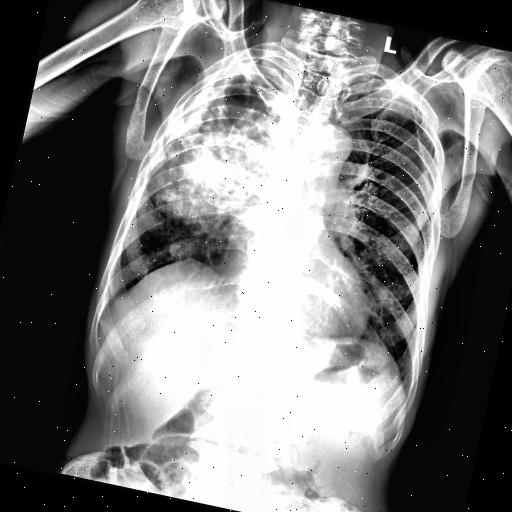10- Pleural effusion: (86, 280, 120, 338)
11- Pleural thickening: (164, 34, 298, 162), (86, 280, 120, 338)
4- Consolidation: (156, 86, 276, 228), (148, 114, 274, 242)
6- Infiltration: (138, 20, 296, 268)
7- Lung Opacity: (138, 20, 296, 268), (156, 86, 276, 228), (198, 58, 288, 148), (378, 198, 434, 248)
8- Nodule-Mass: (156, 86, 276, 228), (148, 114, 274, 242), (356, 180, 380, 206), (376, 288, 388, 300)
